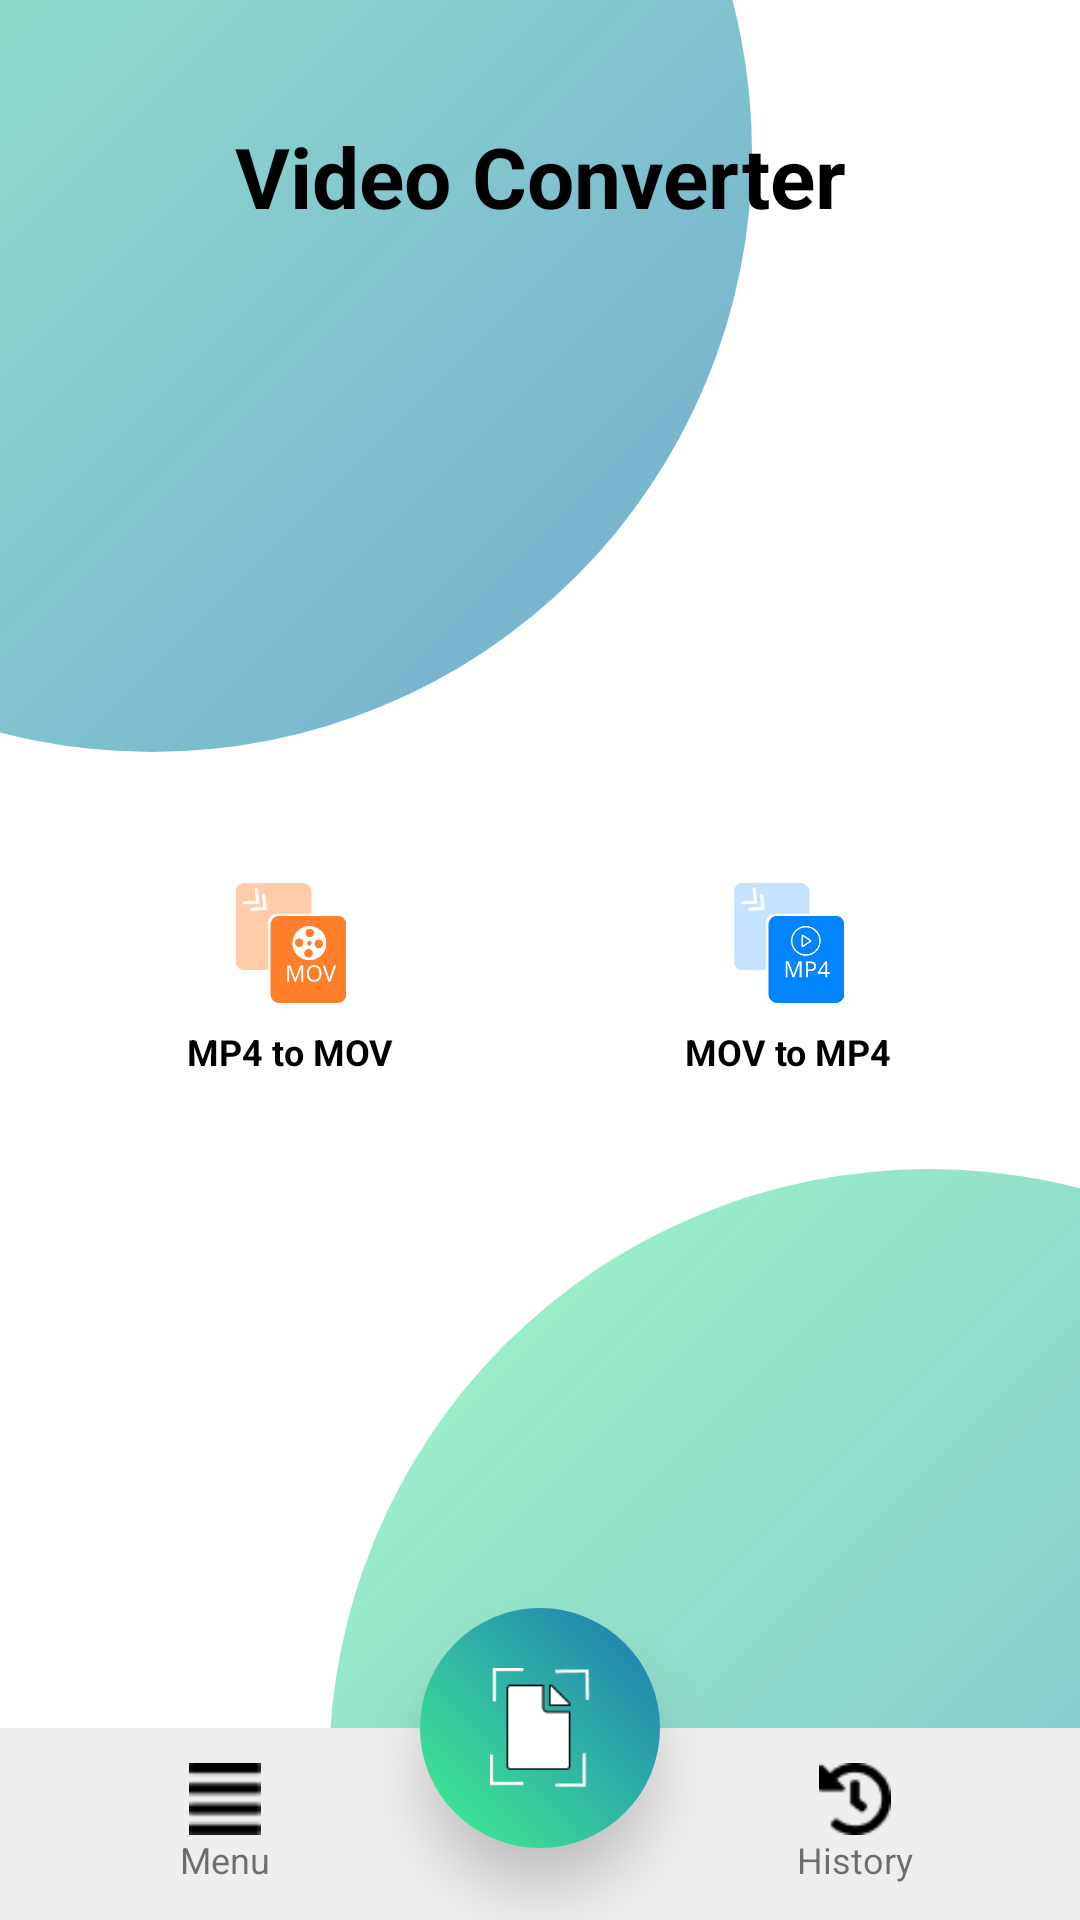

Where to tap for icons on this 1080x1920 app screen, as [x,y]:
scan: [540,1728]
